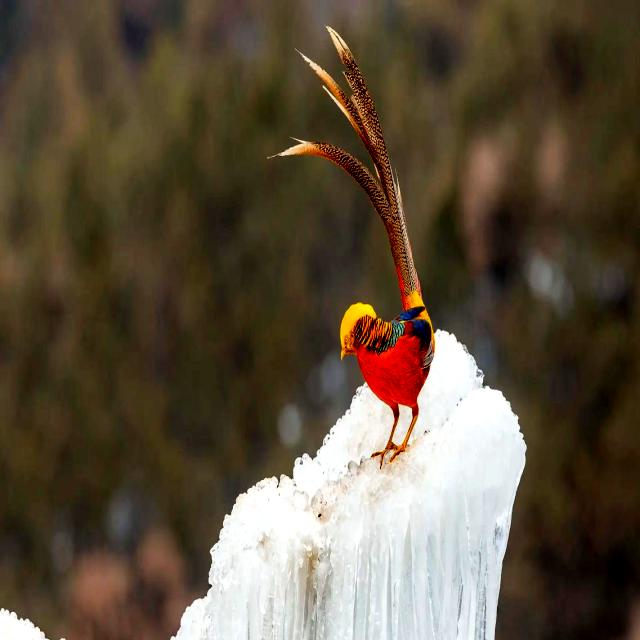Chrysolophus pictus feather: (272, 27, 421, 310)
